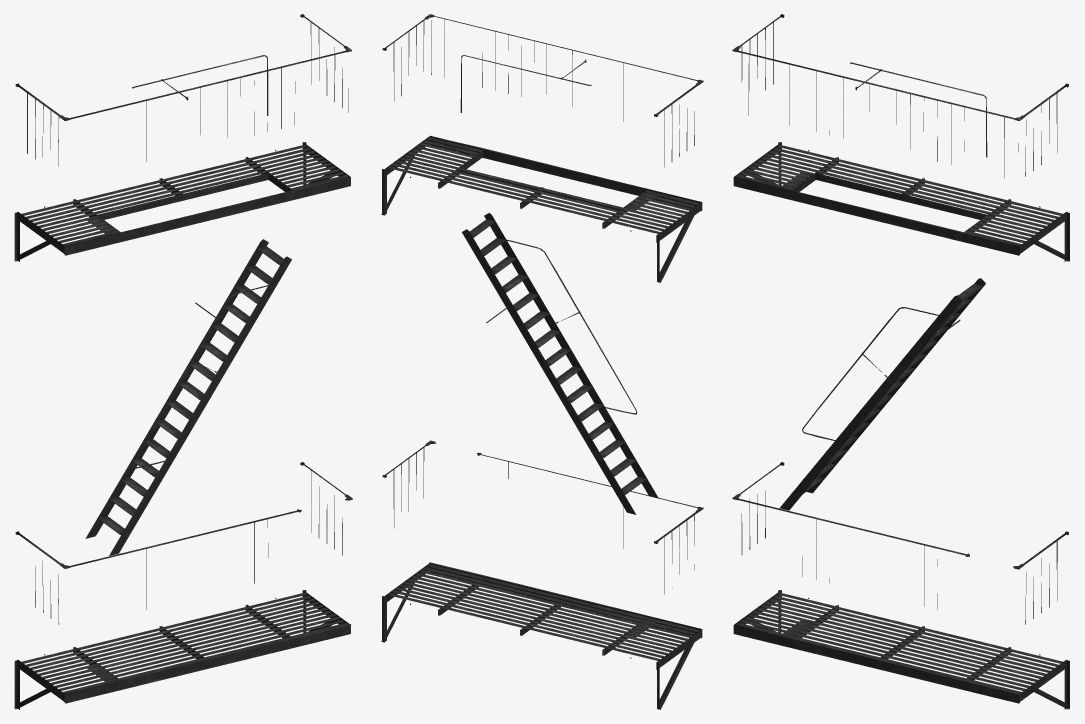
File: modular_fire_escape_1k.gltf
3 views of the same model, side by side, from view 1: azimuth 30°, elevation 25°; view 2: azimuth 150°, elevation 25°; view 3: azimuth 330°, elevation 25° (orthographic). The views are drawn at different scales.
Visible parts, largest first — view 1: modular_fire_escape_platform_bottom_LOD0, modular_fire_escape_platform_middle_LOD0, modular_fire_escape_stairs_LOD0, modular_fire_escape_railing_middle_LOD0, modular_fire_escape_railing_bottom_LOD0; view 2: modular_fire_escape_platform_bottom_LOD0, modular_fire_escape_platform_middle_LOD0, modular_fire_escape_stairs_LOD0, modular_fire_escape_railing_middle_LOD0, modular_fire_escape_railing_bottom_LOD0; view 3: modular_fire_escape_platform_bottom_LOD0, modular_fire_escape_platform_middle_LOD0, modular_fire_escape_stairs_LOD0, modular_fire_escape_railing_middle_LOD0, modular_fire_escape_railing_bottom_LOD0.
Boxes of the visible parts, box(x1,y1,x2,y2) form: modular_fire_escape_platform_bottom_LOD0: box(14, 590, 351, 709); modular_fire_escape_platform_middle_LOD0: box(14, 142, 350, 261); modular_fire_escape_stairs_LOD0: box(85, 239, 291, 555); modular_fire_escape_railing_middle_LOD0: box(15, 14, 351, 166); modular_fire_escape_railing_bottom_LOD0: box(15, 462, 352, 624); modular_fire_escape_platform_bottom_LOD0: box(381, 562, 702, 709); modular_fire_escape_platform_middle_LOD0: box(381, 135, 702, 282); modular_fire_escape_stairs_LOD0: box(462, 213, 658, 514); modular_fire_escape_railing_middle_LOD0: box(382, 14, 703, 167); modular_fire_escape_railing_bottom_LOD0: box(382, 440, 703, 594); modular_fire_escape_platform_bottom_LOD0: box(733, 590, 1069, 709); modular_fire_escape_platform_middle_LOD0: box(733, 142, 1069, 261); modular_fire_escape_stairs_LOD0: box(779, 278, 985, 510); modular_fire_escape_railing_middle_LOD0: box(732, 14, 1068, 177); modular_fire_escape_railing_bottom_LOD0: box(732, 462, 1068, 624).
Size of what is drawn, in the model's own units: 4.79 by 9.76 by 1.41.
3 materials, 3 textured.
